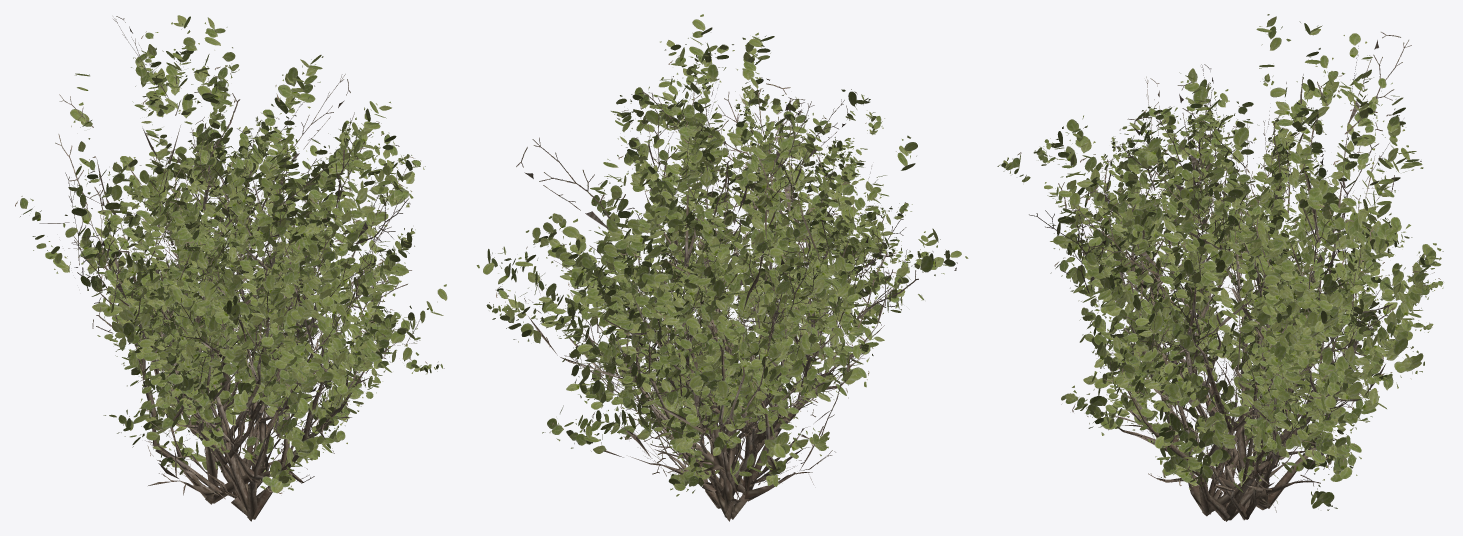
The model's file is searsia_lucida.glb.
3 renders of one model, left to right at view 1: azimuth 30°, elevation 25°; view 2: azimuth 150°, elevation 25°; view 3: azimuth 270°, elevation 25°, orthographic. The views are drawn at different scales.
Visible parts, largest first — view 1: a_lod0, b_lod0, c_lod0, d_lod0; view 2: a_lod0, b_lod0, c_lod0, d_lod0; view 3: a_lod0, b_lod0, c_lod0, d_lod0.
Part boxes in pixels (bbox=[...]): a_lod0: bbox=[15, 15, 444, 504]; b_lod0: bbox=[94, 116, 408, 521]; c_lod0: bbox=[119, 169, 447, 505]; d_lod0: bbox=[112, 216, 366, 500]; a_lod0: bbox=[476, 14, 968, 521]; b_lod0: bbox=[561, 77, 893, 494]; c_lod0: bbox=[581, 159, 937, 498]; d_lod0: bbox=[599, 224, 845, 508]; a_lod0: bbox=[997, 14, 1443, 512]; b_lod0: bbox=[1061, 64, 1412, 516]; c_lod0: bbox=[1083, 147, 1380, 521]; d_lod0: bbox=[1124, 216, 1345, 520].
Size of the model in its own units: 1.85 by 2.33 by 1.92.
Materials: 2 (2 with a texture image).
